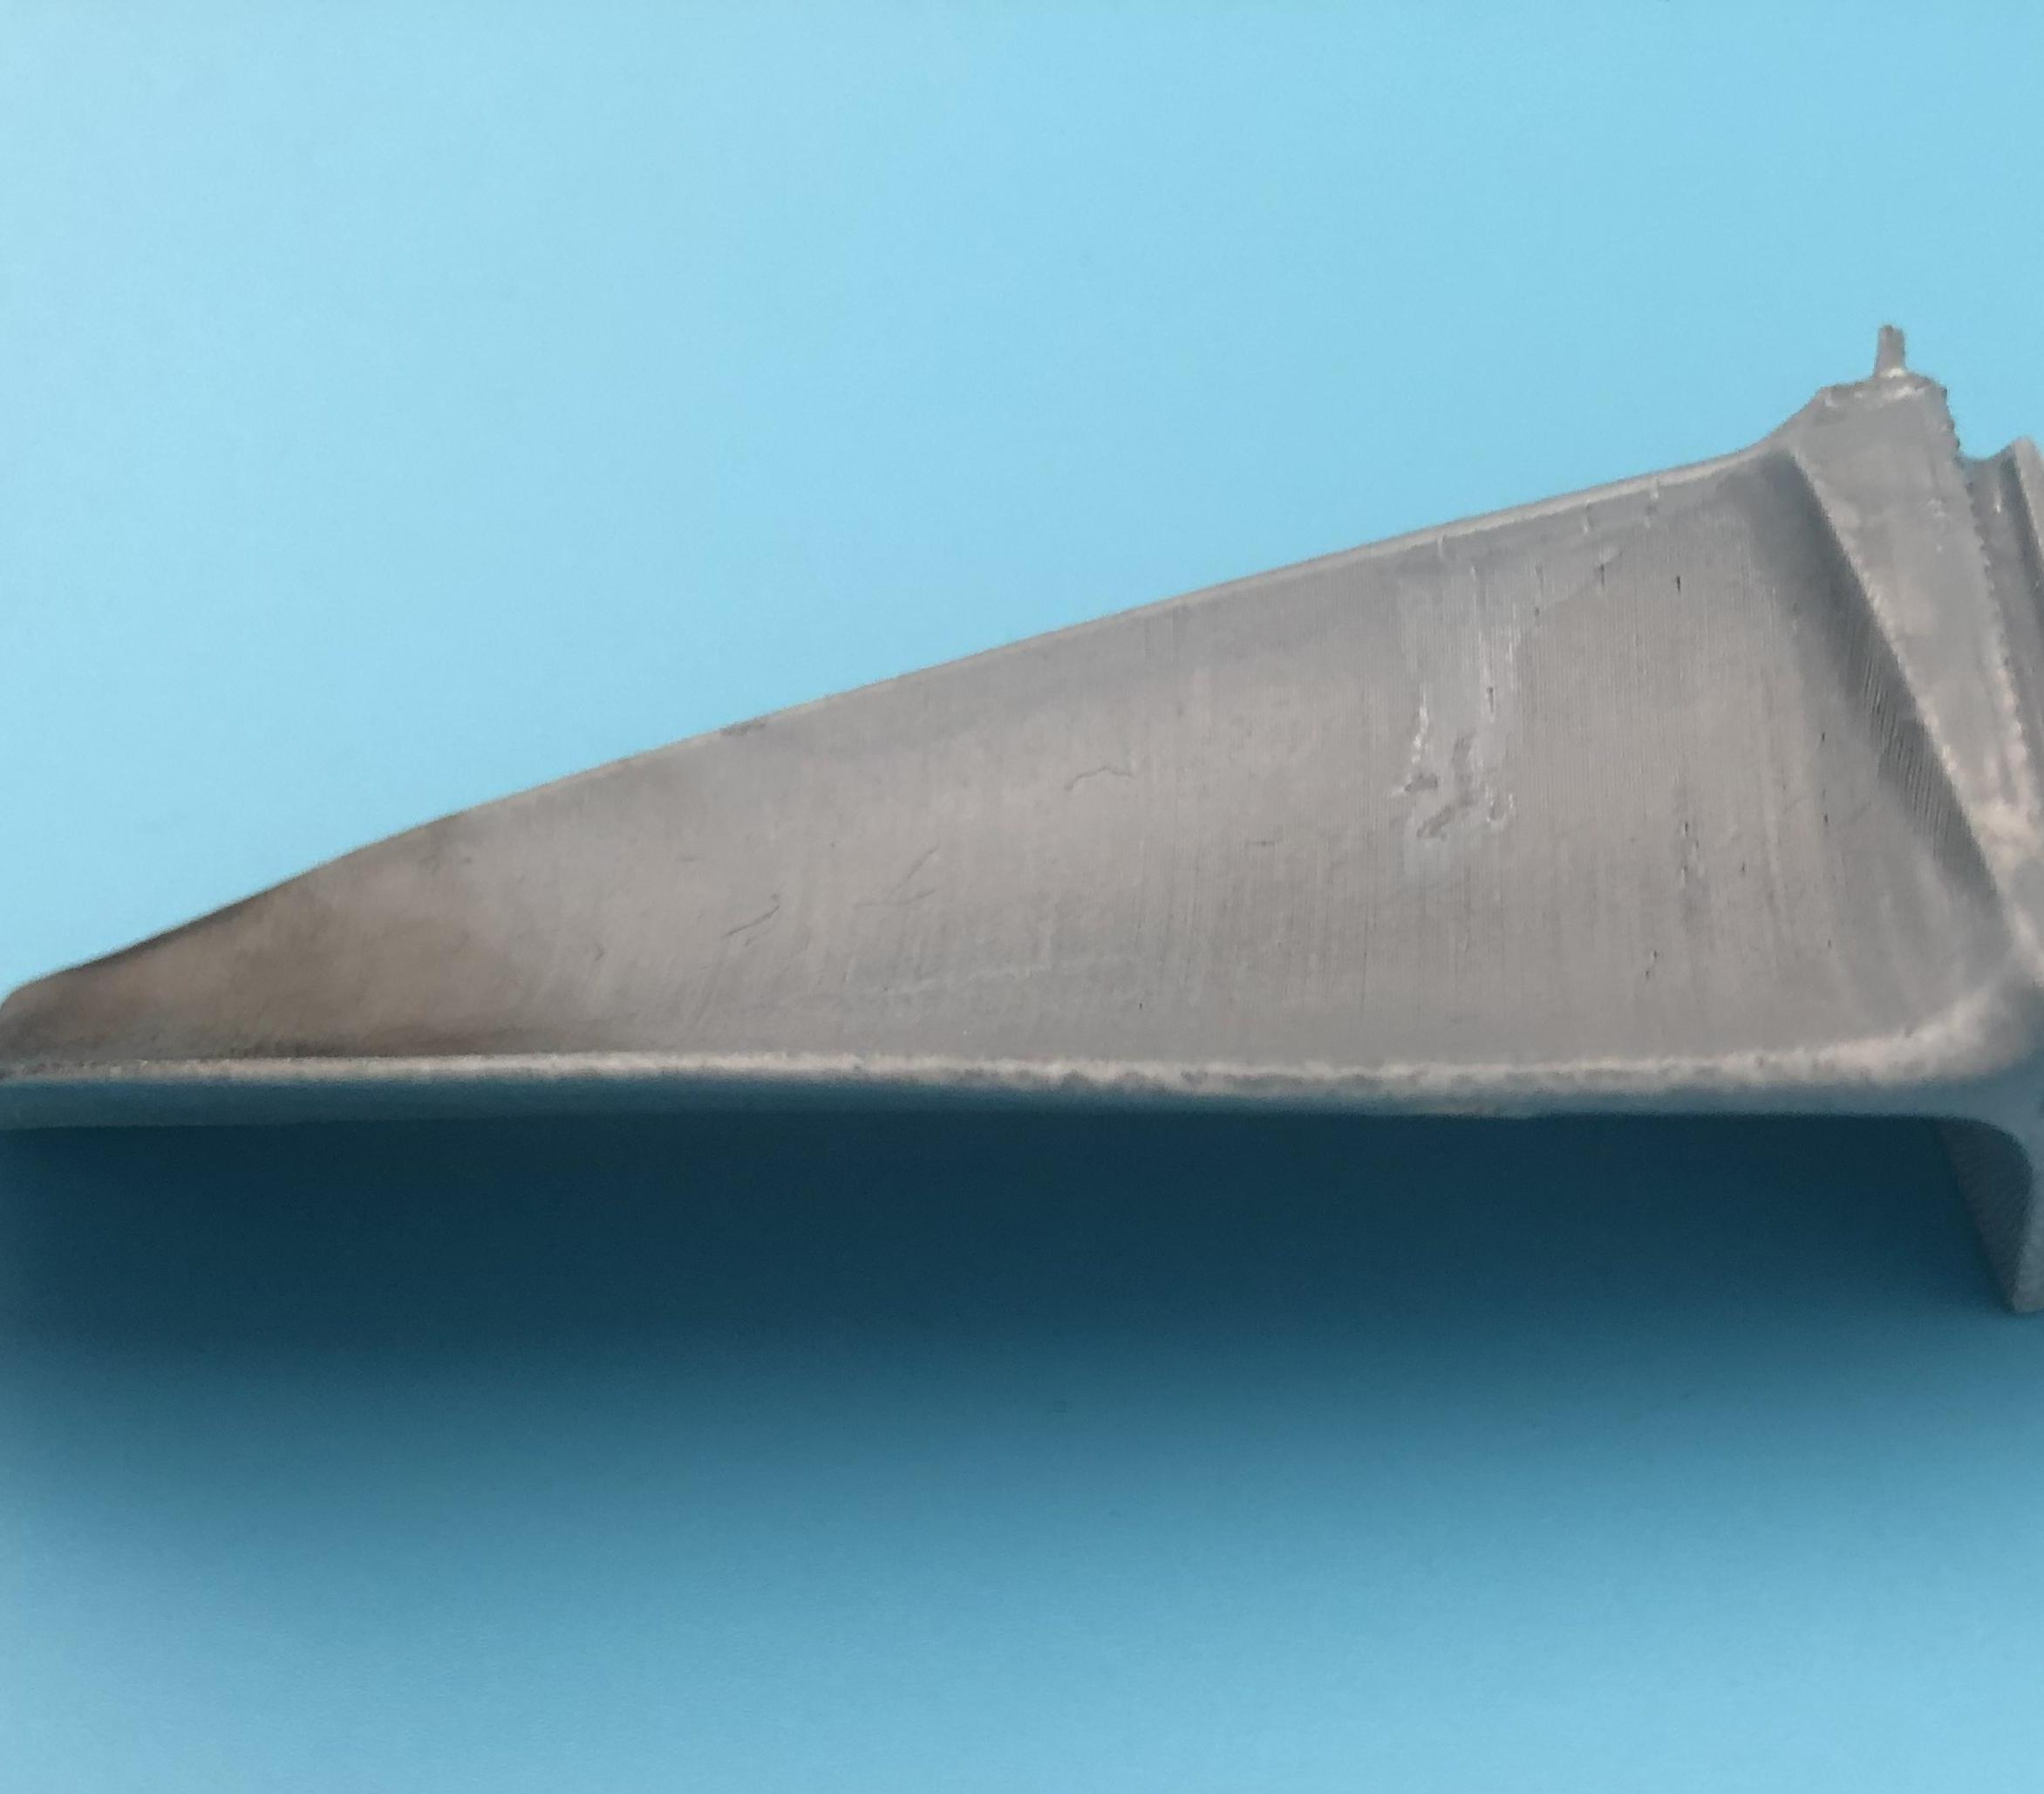ablation: (14, 980, 506, 1076)
